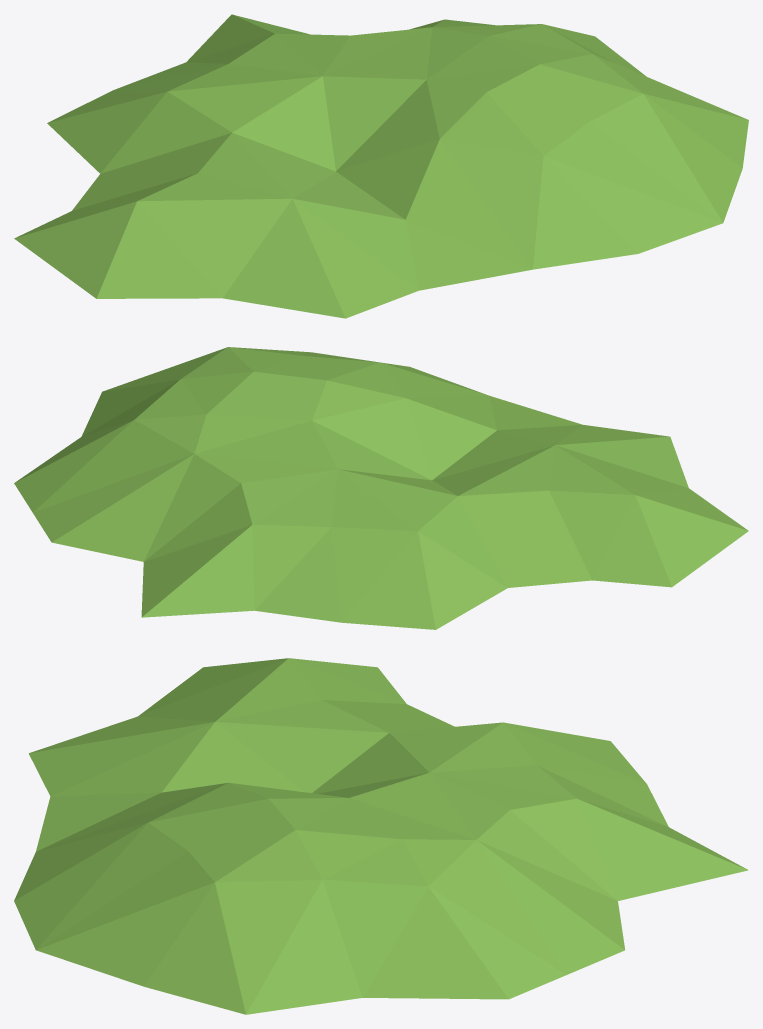
Rendered from MT_Mountain_S_b_24_LOD.fbx.
The picture shows the model from 3 angles, top to bottom: view 1: azimuth 30°, elevation 25°; view 2: azimuth 150°, elevation 25°; view 3: azimuth 270°, elevation 25°; orthographic projection. The views are drawn at different scales.
Parts seen in each view (by area): view 1: MT_Mountain_S_b_24_LOD0; view 2: MT_Mountain_S_b_24_LOD0; view 3: MT_Mountain_S_b_24_LOD0.
Boxes of the visible parts, x1=… form: MT_Mountain_S_b_24_LOD0: x1=14, y1=14, x2=748, y2=318; MT_Mountain_S_b_24_LOD0: x1=14, y1=347, x2=748, y2=629; MT_Mountain_S_b_24_LOD0: x1=14, y1=658, x2=748, y2=1014.
Size of what is drawn, in the model's own units: 2397 by 286 by 2142.
